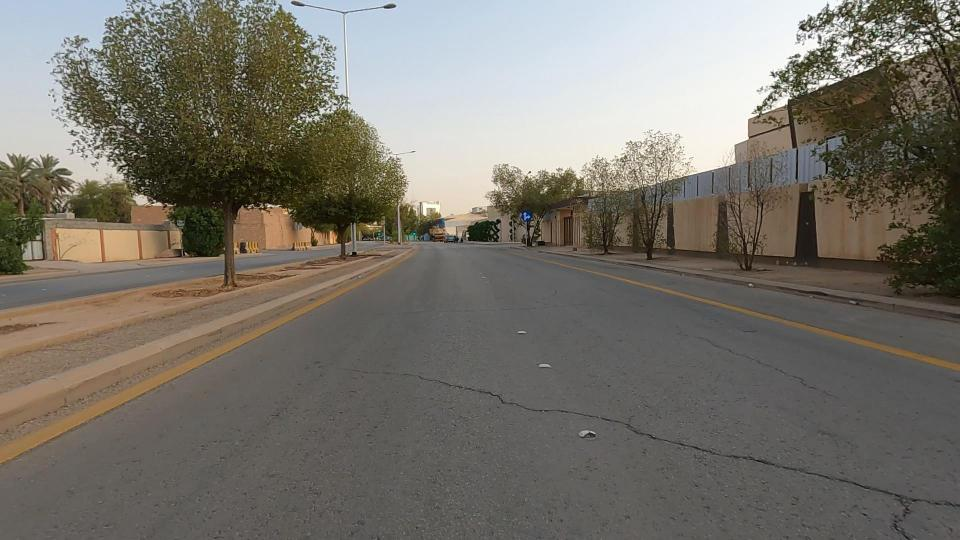POTHOLES: (543, 388, 960, 540), (408, 359, 674, 466)
